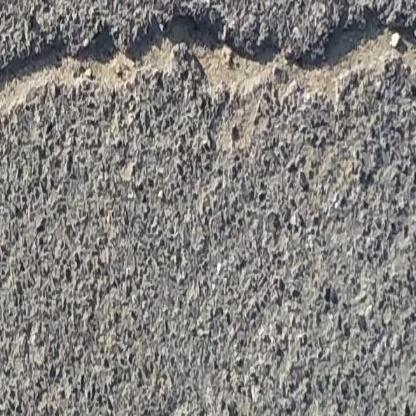Cracks: (0, 3, 416, 149)
